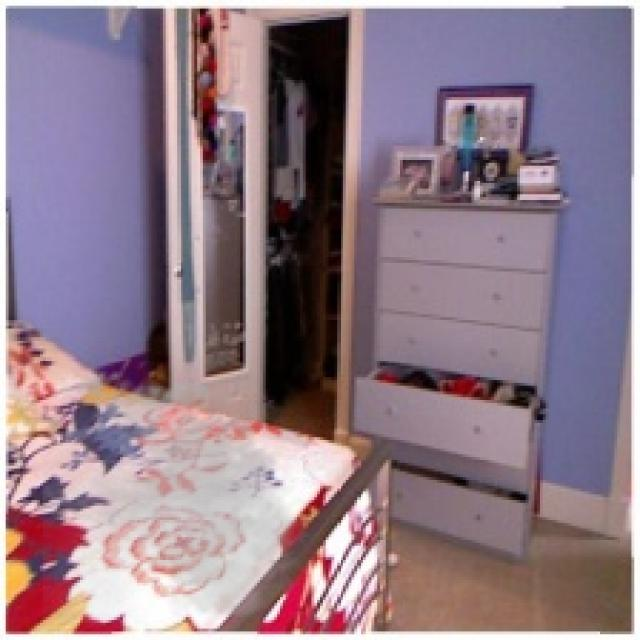smoke: (43, 363, 314, 626)
